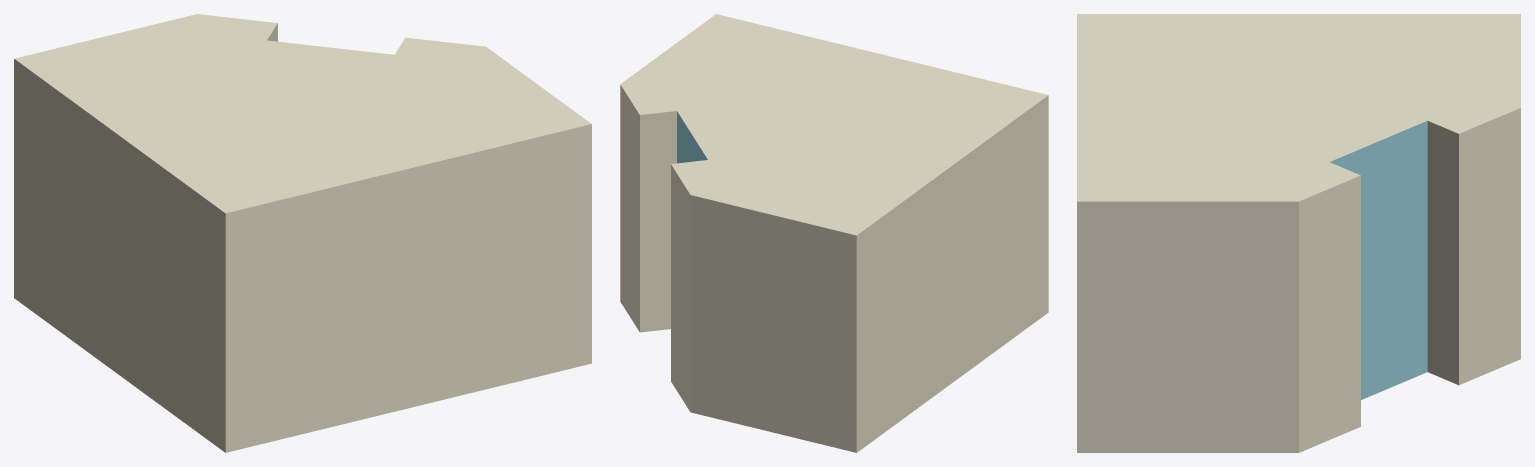
File: building_048.dae
3 renders of one model, left to right at view 1: azimuth 30°, elevation 25°; view 2: azimuth 150°, elevation 25°; view 3: azimuth 270°, elevation 25°, orthographic. The views are drawn at different scales.
Parts seen in each view (by area): view 1: building_048; view 2: building_048; view 3: building_048.
Boxes of the visible parts, <box> form: building_048: <box>14,14,591,452</box>; building_048: <box>620,14,1048,452</box>; building_048: <box>1077,14,1520,452</box>.
Size of the model in its own units: 1 by 0.625 by 1.
